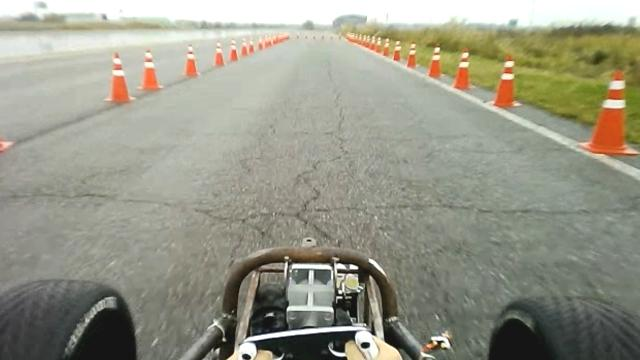red cone: (579, 69, 640, 155), (104, 51, 136, 104), (492, 54, 522, 108), (138, 49, 164, 91), (453, 48, 475, 90), (184, 44, 199, 77), (428, 46, 443, 78), (0, 121, 14, 153), (407, 41, 418, 68), (214, 40, 225, 66), (393, 40, 403, 62), (230, 39, 239, 61), (240, 38, 249, 56), (382, 37, 390, 57)
